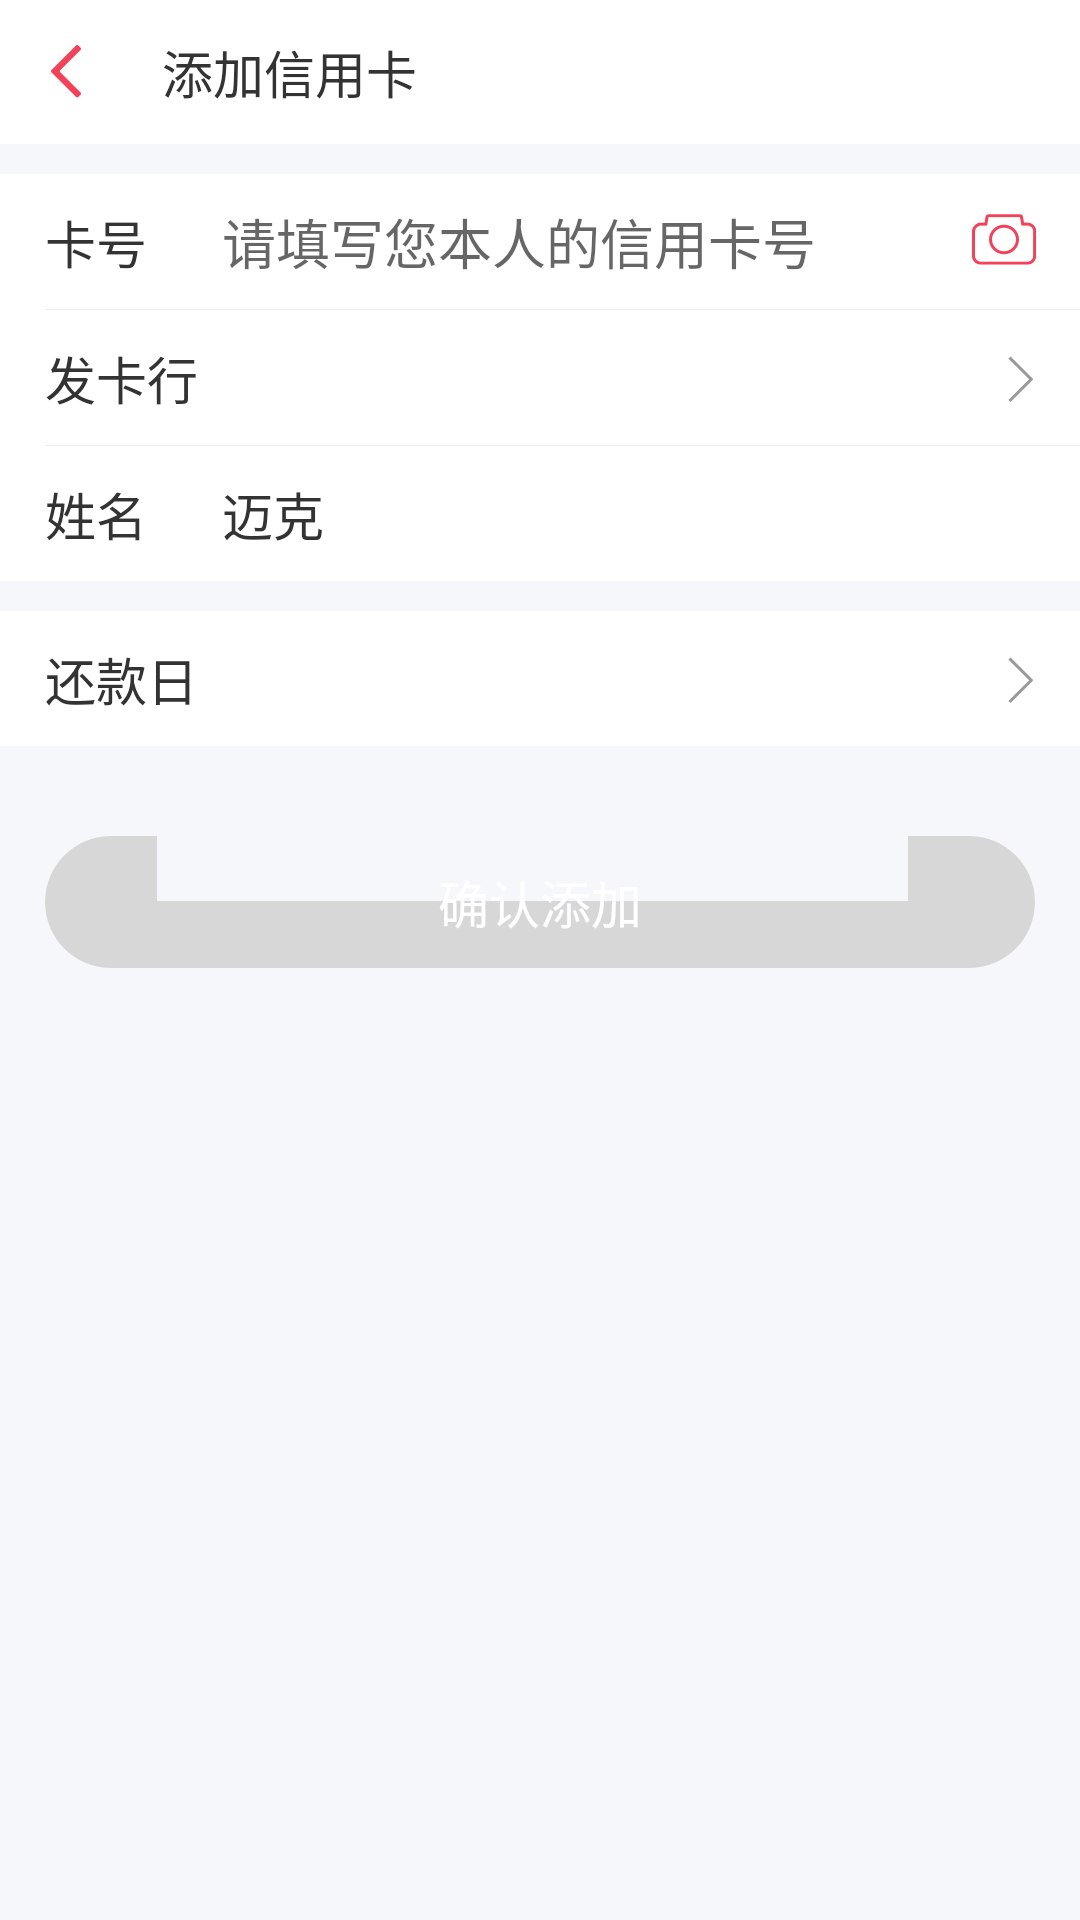

Icons on this 1080×1920 Android screen, each with the point to tap as (x,y):
arrow right: (1020,379), (1020,680)
camera: (1004,239)
